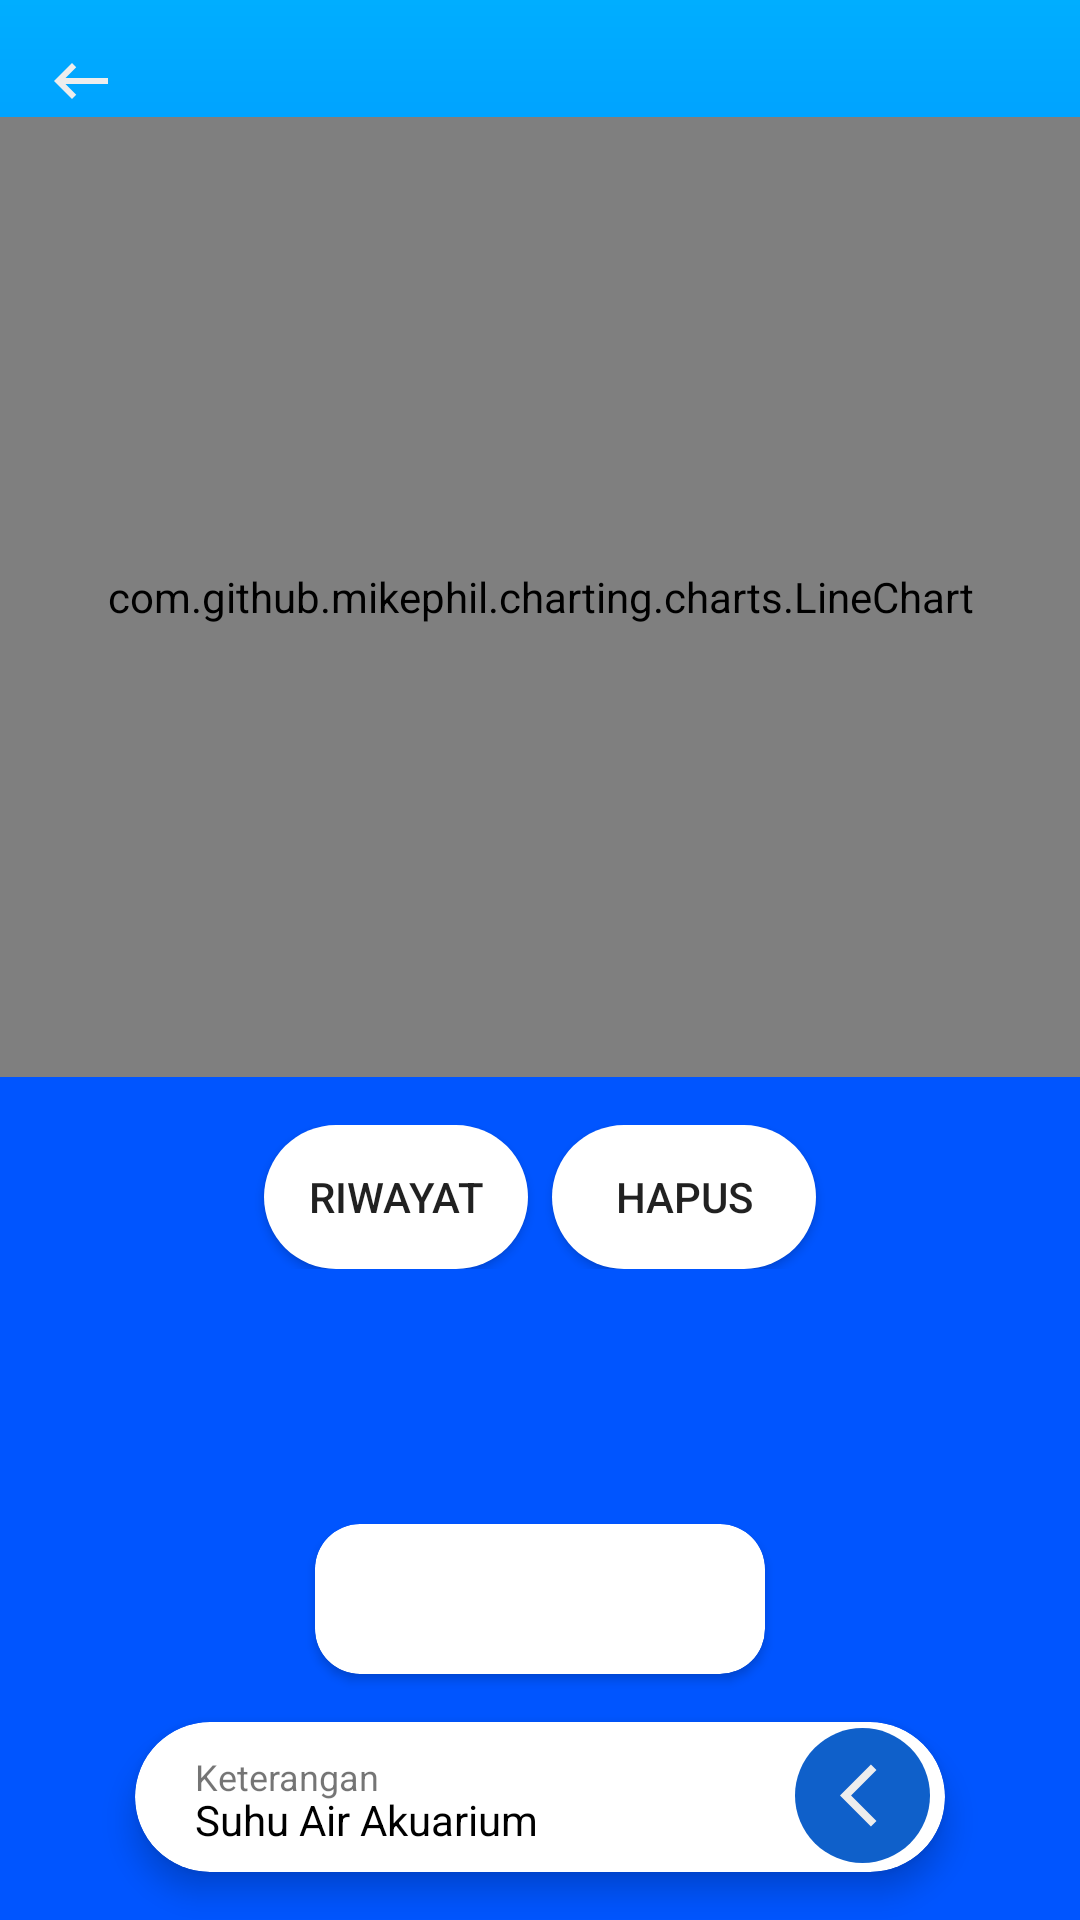

Icon click points for this 1080px×1920px phone screenshot, format (x=x, y=y):
kembali putih: (x=81, y=81)
